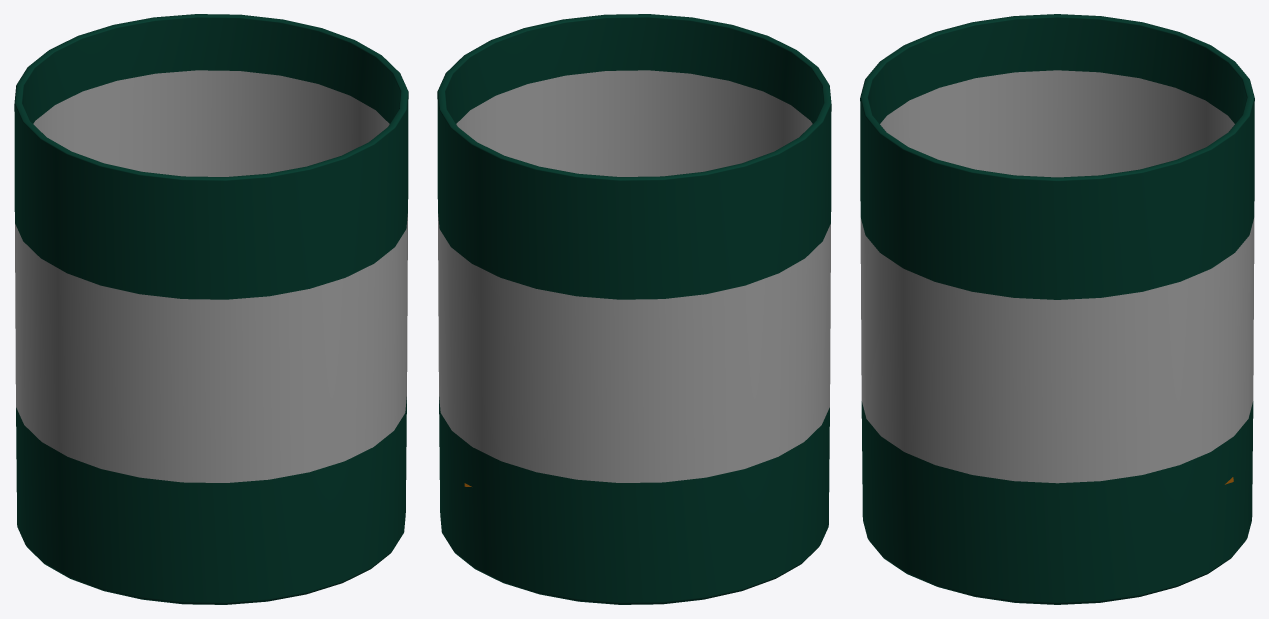
Rendered from chips.fbx.
The picture shows the model from 3 angles, left to right: view 1: azimuth 30°, elevation 25°; view 2: azimuth 150°, elevation 25°; view 3: azimuth 270°, elevation 25°; orthographic projection.
Visible parts, largest first — view 1: pasted__pCylinder1; view 2: pasted__pCylinder1; view 3: pasted__pCylinder1.
Part boxes in pixels (x1,y1,x2,y2): pasted__pCylinder1: (14,14,408,604); pasted__pCylinder1: (437,14,831,604); pasted__pCylinder1: (860,14,1254,604).
Bounding box in the file's own units: 6.69 × 8.01 × 6.69.
